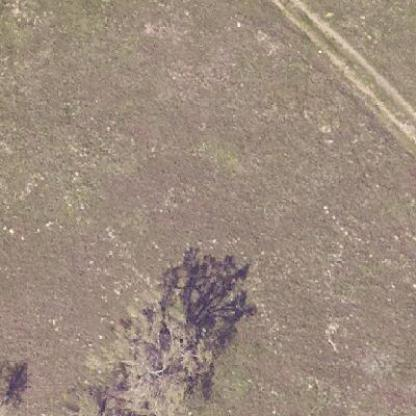tree-top: (94, 299, 220, 414), (0, 354, 29, 406)
